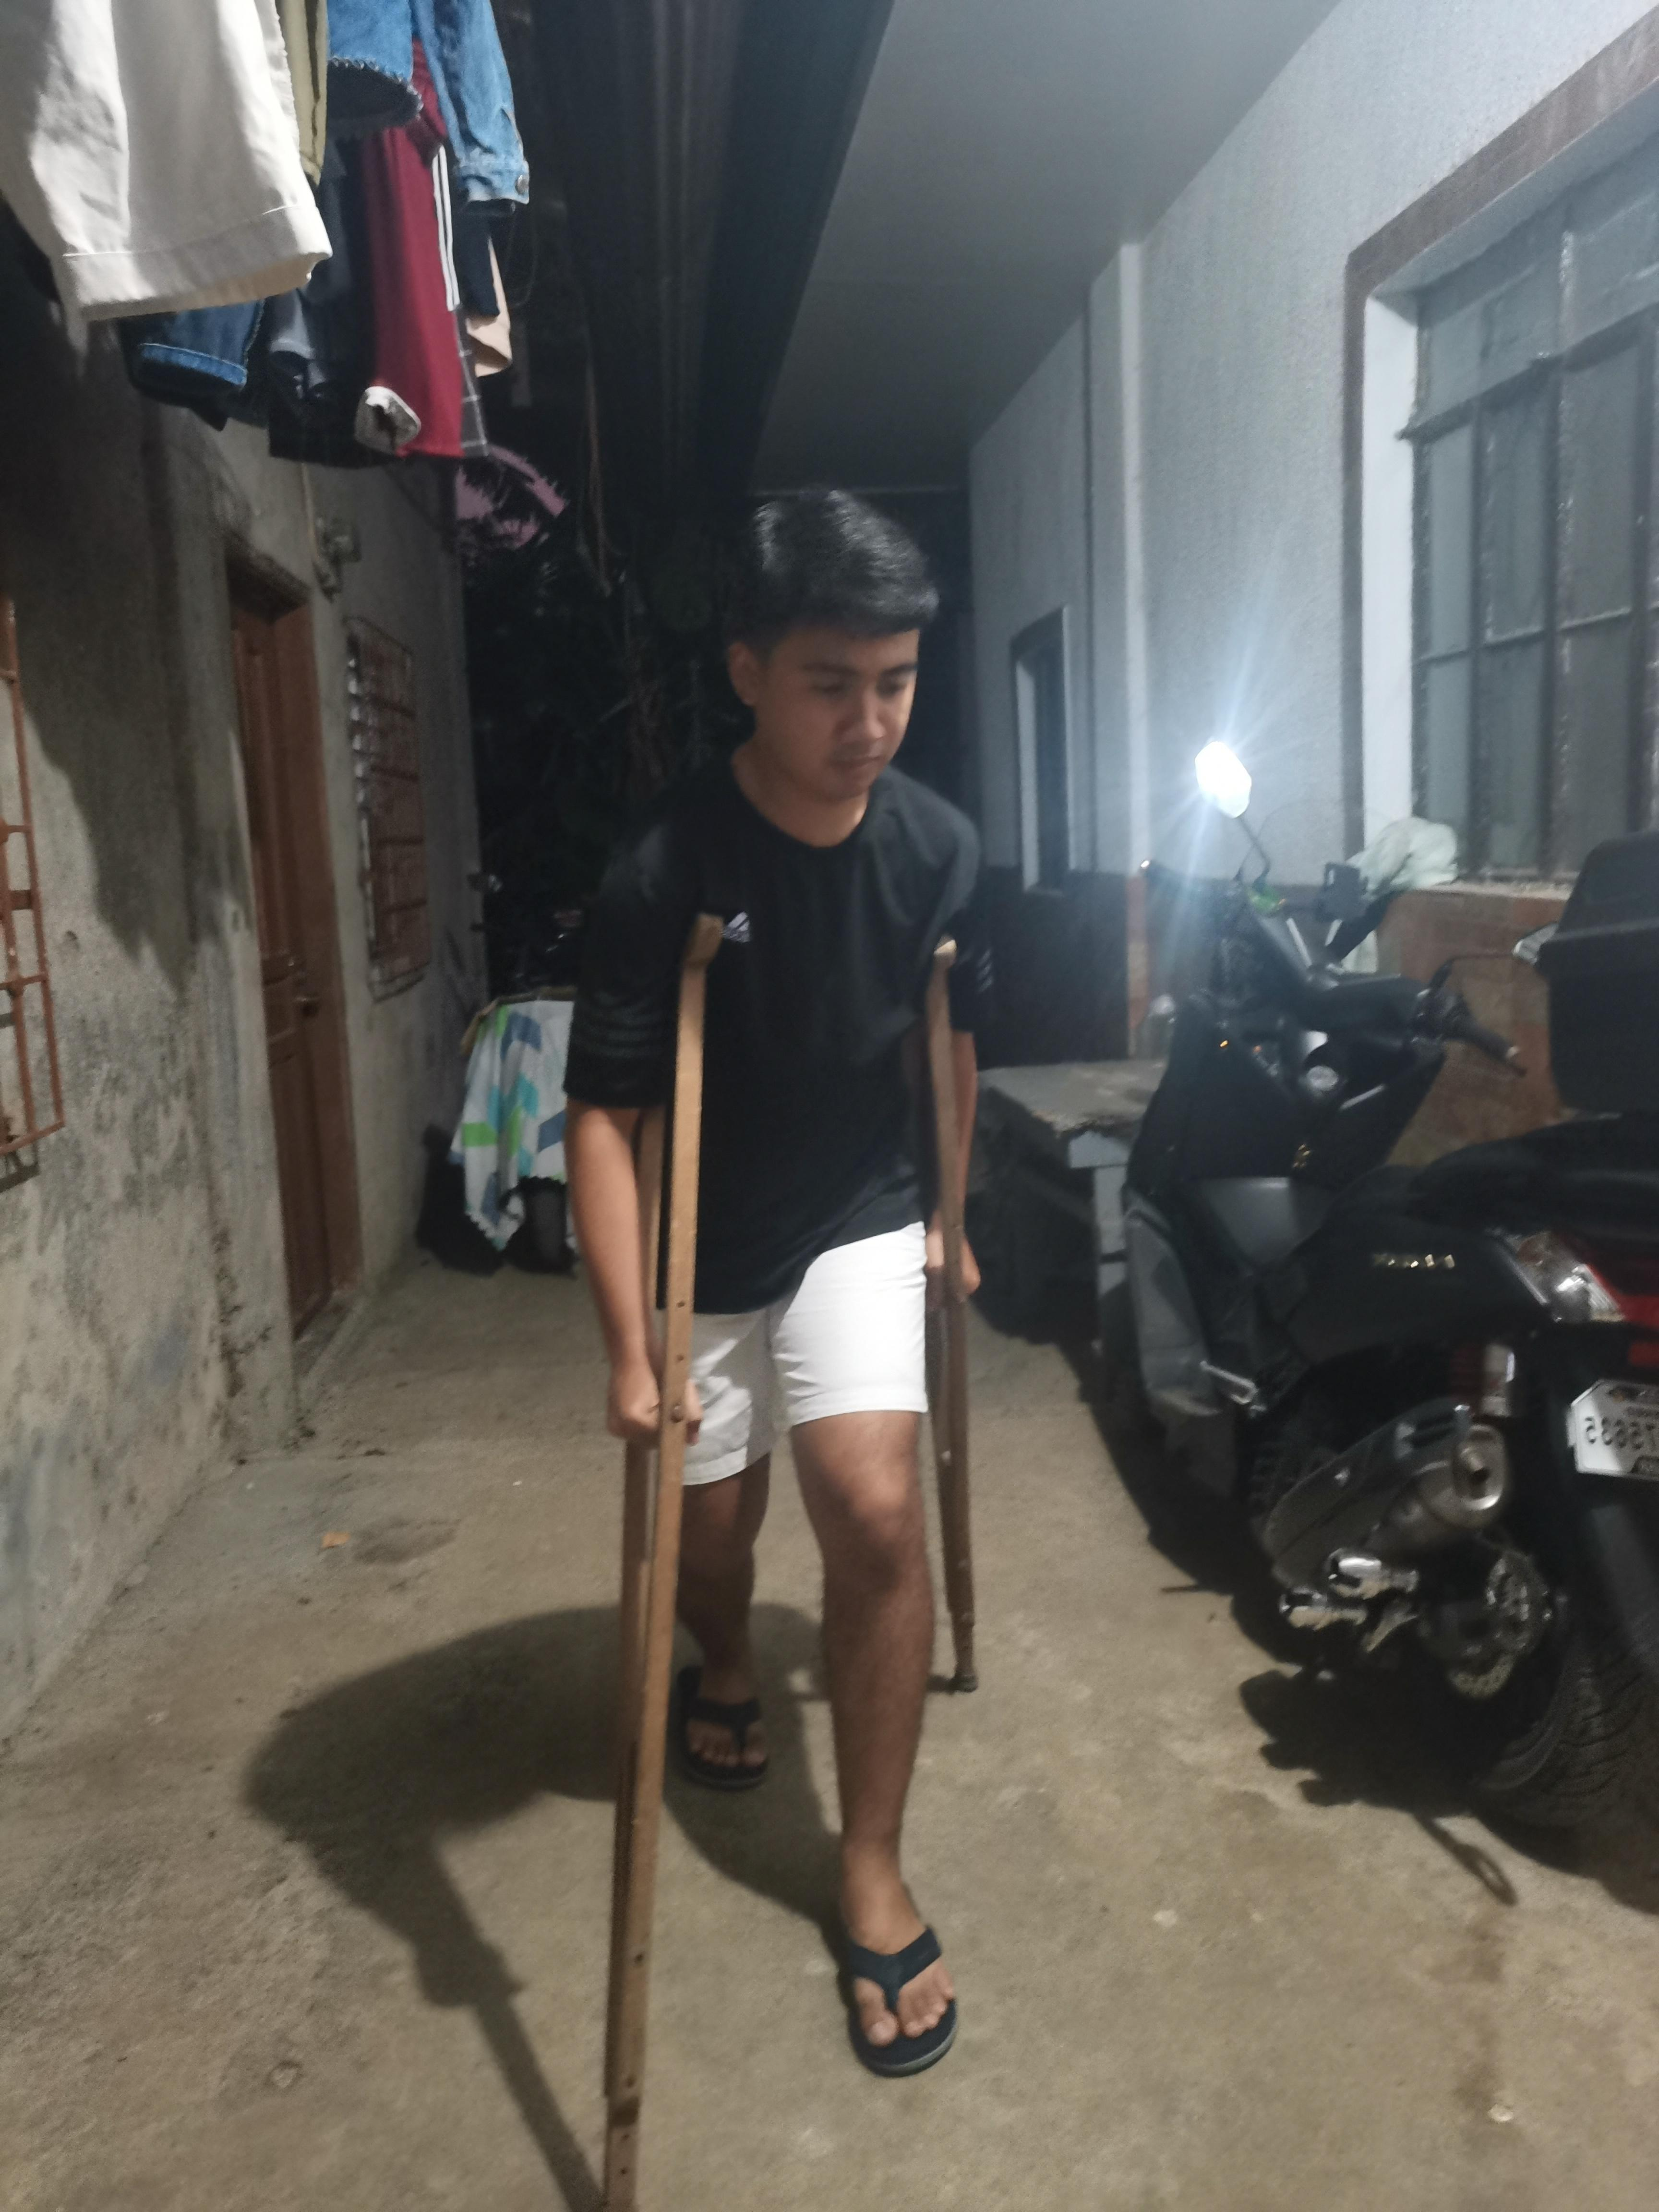crutches: (544, 448, 1012, 2212)
